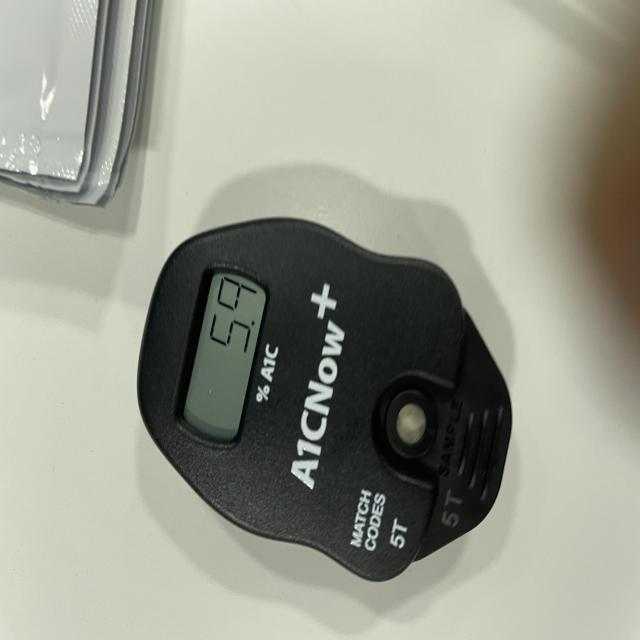hba1c: (136, 218, 514, 586)
